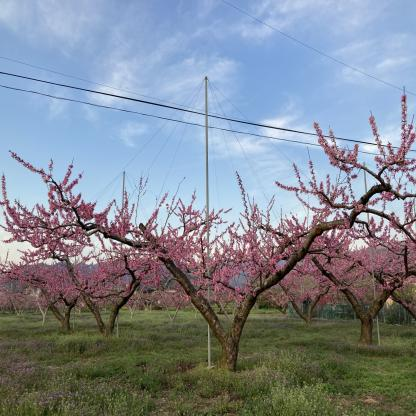Momo: (1, 84, 416, 346), (240, 209, 356, 307), (305, 224, 416, 315), (0, 246, 92, 320), (156, 252, 230, 314), (79, 260, 162, 314)
